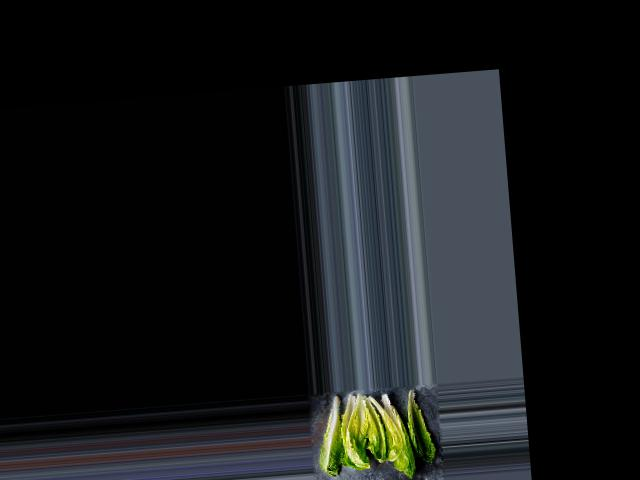lettuce: (403, 385, 434, 463)
